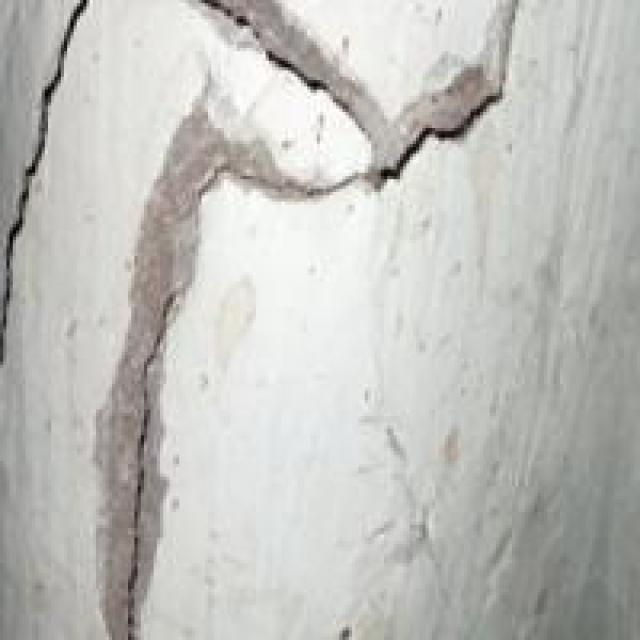crack: (0, 3, 531, 637)
